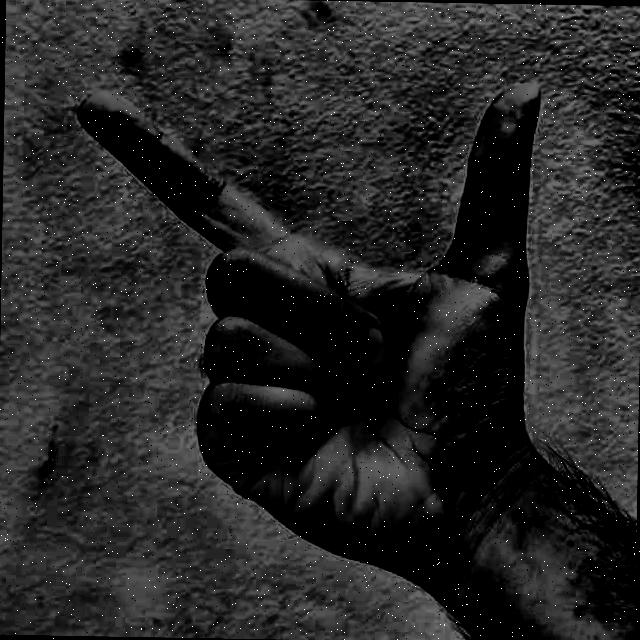ChandraBindu: (40, 17, 592, 606)
